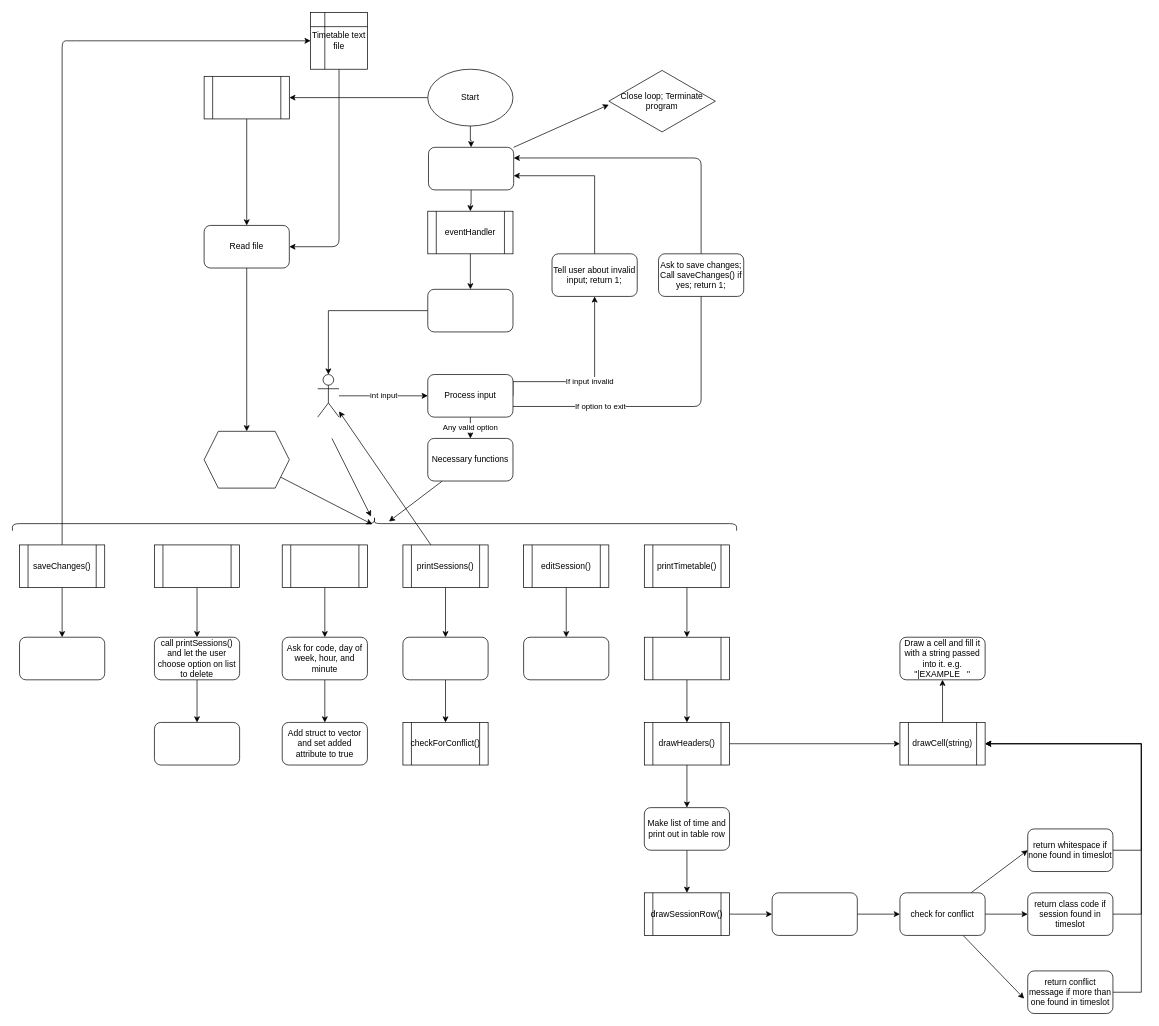
This 1159x1026 diagram has some shape labels left out. The centre of each missing label's shape, as x and y in pixels:
addSession(): the point at 324,566
call deleteSession(); call addSession();: the point at 566,658
check for unsaved changes: the point at 445,658
deleteSession(): the point at 197,566
Display Menu 1) Display timetable ... 7) Quit program: the point at 470,310
Draw day of week column: the point at 814,913
drwaBorders(): the point at 687,658
loadFile(): the point at 246,97
separate attributes with '|' and each class with '\n': the point at 62,658
Set deleted attribute of struct to true to be deleted when saving changes: the point at 197,743
Set running = true; while running: if returned 1, set running = false: the point at 471,168
User: the point at 328,395
Vector of subject structs: the point at 246,459
